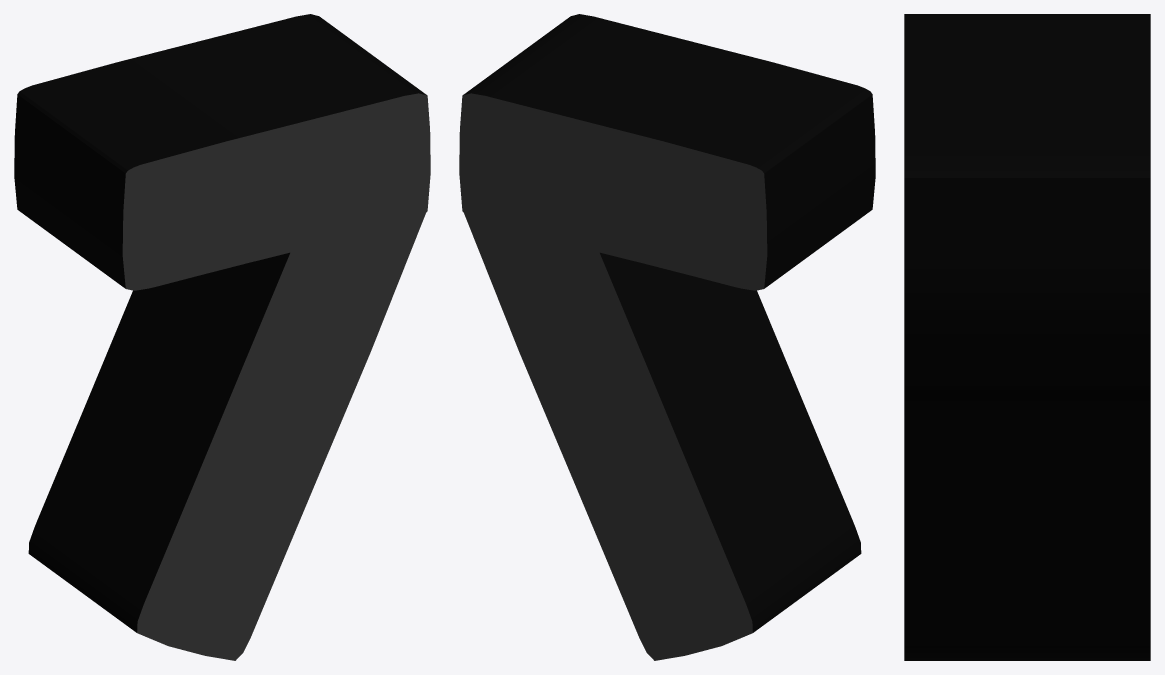
The model's file is 6de29409-528a-4af1-a771-309e59f1ade3.glb.
3 renders of one model, left to right at view 1: azimuth 30°, elevation 25°; view 2: azimuth 150°, elevation 25°; view 3: azimuth 270°, elevation 25°, orthographic. The views are drawn at different scales.
Visible parts, largest first — view 1: 7_Zyzol_Black; view 2: 7_Zyzol_Black; view 3: 7_Zyzol_Black.
Part boxes in pixels (x1,y1,x2,y2): 7_Zyzol_Black: [14, 14, 430, 660]; 7_Zyzol_Black: [459, 14, 875, 660]; 7_Zyzol_Black: [904, 14, 1150, 660].
Size of what is drawn, in the model's own units: 0.0738 by 0.12 by 0.045.
2 materials, 2 textured.
